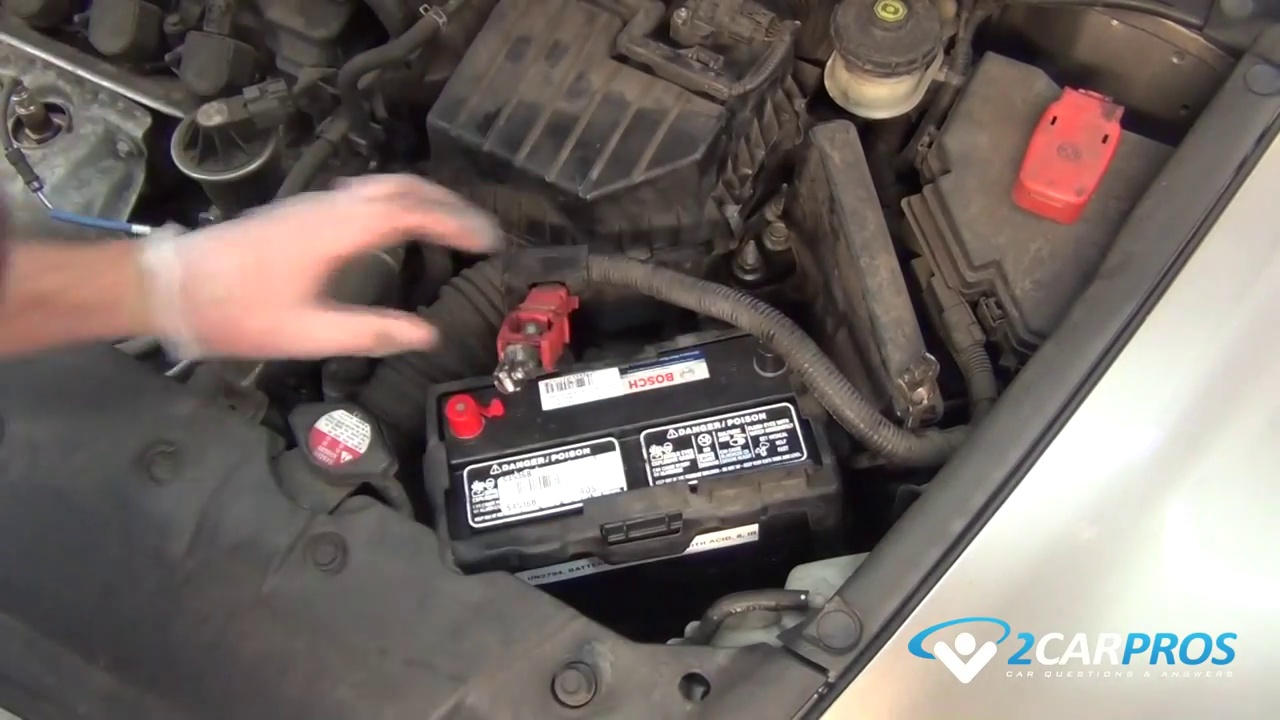battery: (424, 312, 820, 546)
neg_disconnected: (741, 296, 806, 400)
pos_disconnected: (419, 324, 550, 453)
